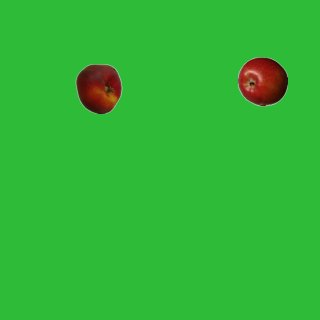Apple Braeburn: (237, 56, 287, 106)
Nectarine Flat: (73, 63, 123, 113)
